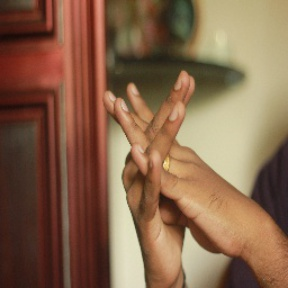W: (101, 64, 224, 239)
